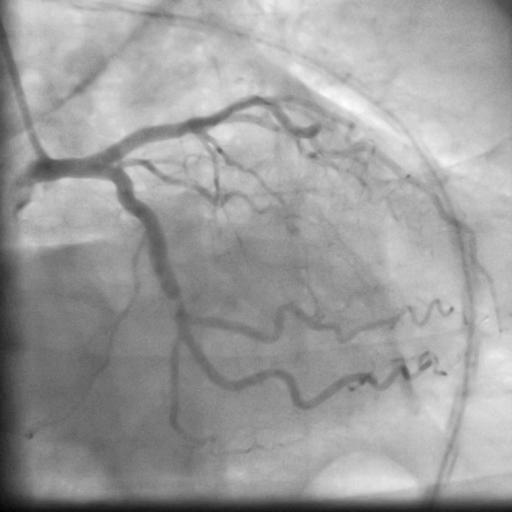Stenosis: (164, 293, 189, 312)
